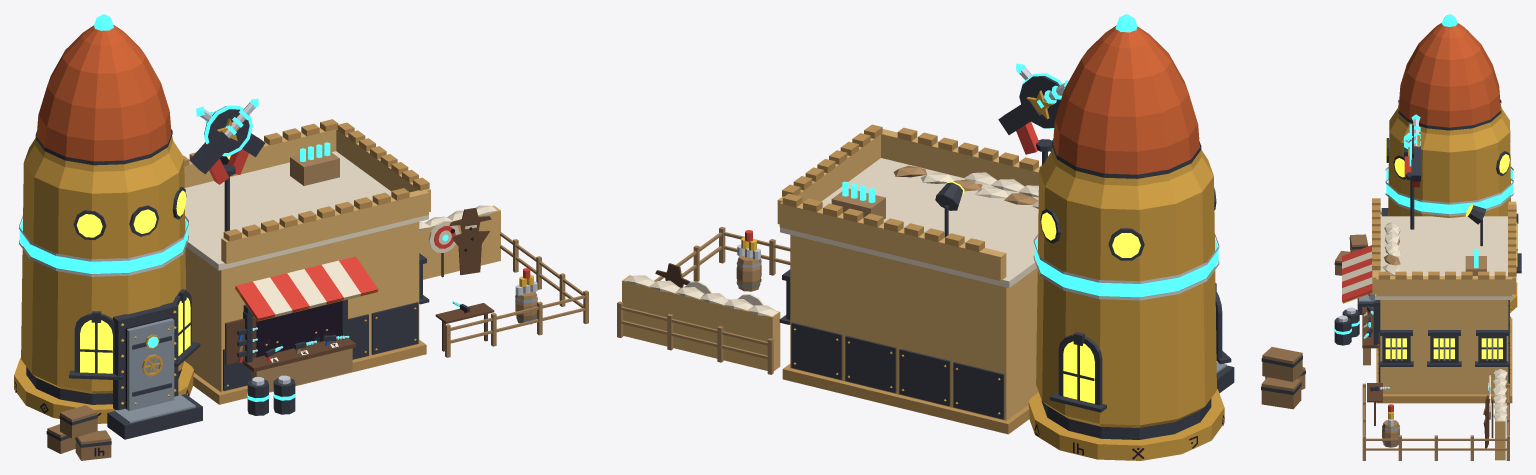
The model's file is Bldg_Armory 1.fbx.
The picture shows the model from 3 angles, left to right: view 1: azimuth 30°, elevation 25°; view 2: azimuth 150°, elevation 25°; view 3: azimuth 270°, elevation 25°; orthographic projection. The views are drawn at different scales.
Parts seen in each view (by area): view 1: Bldg_Armory_Body, Bldg_Armory_Door, Bldg_Armory_Sign, Bldg_Armory_Targets; view 2: Bldg_Armory_Body, Bldg_Armory_Sign, Bldg_Armory_Targets; view 3: Bldg_Armory_Body, Bldg_Armory_Sign, Bldg_Armory_Targets.
Part boxes in pixels (bbox=[...]): Bldg_Armory_Body: bbox=[14, 14, 588, 460]; Bldg_Armory_Door: bbox=[127, 318, 174, 410]; Bldg_Armory_Sign: bbox=[189, 98, 264, 184]; Bldg_Armory_Targets: bbox=[428, 207, 537, 324]; Bldg_Armory_Body: bbox=[617, 14, 1305, 460]; Bldg_Armory_Sign: bbox=[998, 63, 1068, 154]; Bldg_Armory_Targets: bbox=[655, 230, 764, 305]; Bldg_Armory_Body: bbox=[1334, 14, 1521, 460]; Bldg_Armory_Sign: bbox=[1404, 114, 1420, 187]; Bldg_Armory_Targets: bbox=[1382, 375, 1493, 448].
Size of the model in its own units: 17.77 by 11.85 by 7.03.
